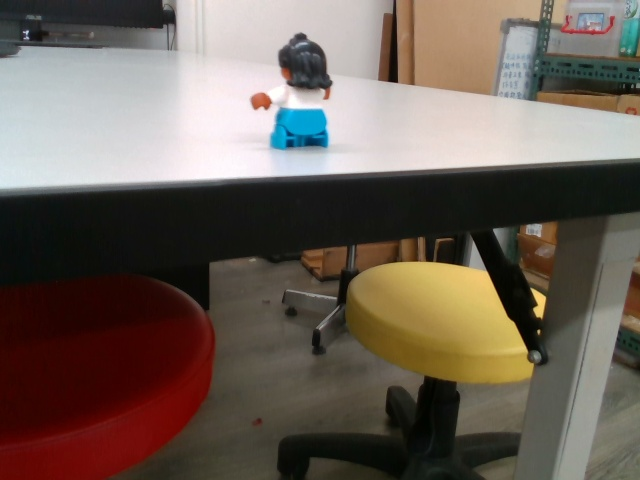people: (250, 29, 344, 154)
